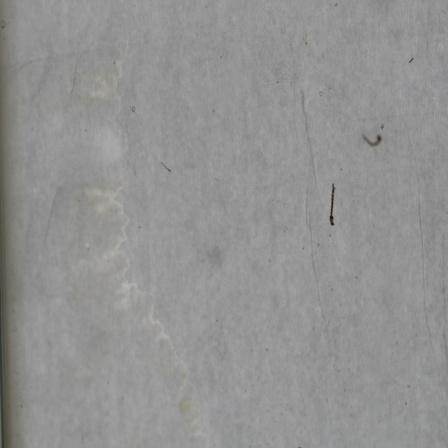Jentik-Nyamuk: (325, 179, 340, 229), (358, 130, 385, 151)
